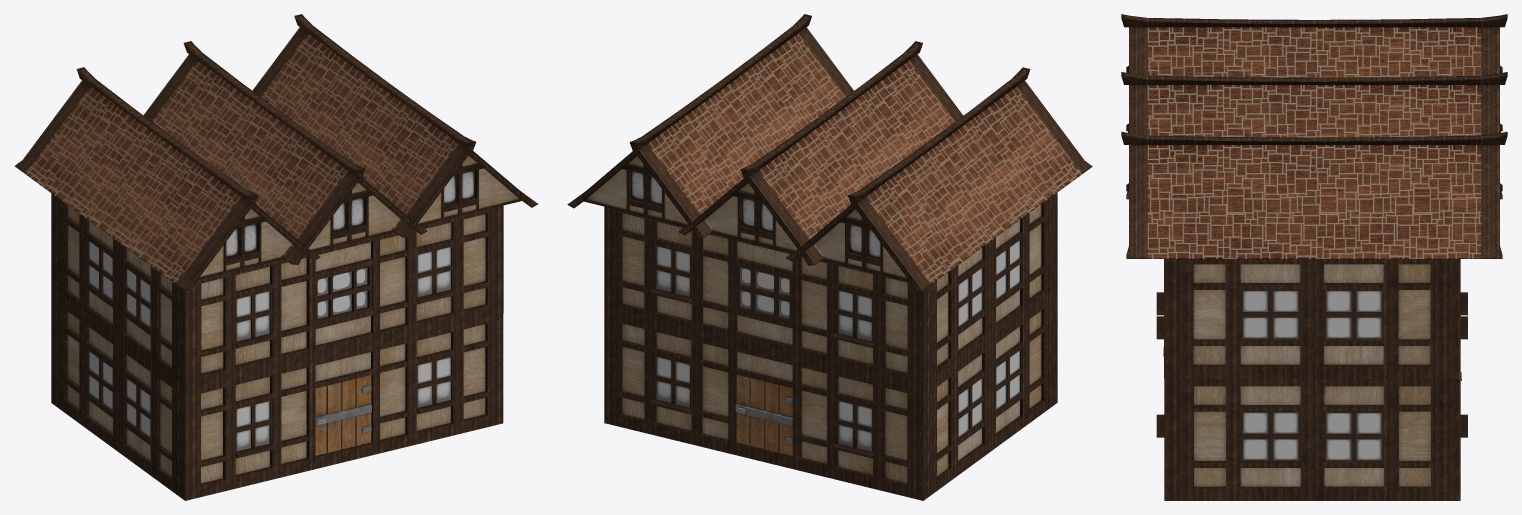
File: House_10.fbx
The picture shows the model from 3 angles, left to right: view 1: azimuth 30°, elevation 25°; view 2: azimuth 150°, elevation 25°; view 3: azimuth 270°, elevation 25°; orthographic projection. The views are drawn at different scales.
Parts seen in each view (by area): view 1: block7, block17, roof13, roof14, roof12, door15, window90, window89, window86, window87, window88, window97 (+3 smaller); view 2: block7, block17, roof13, roof14, roof12, door14, window81, window85, window82, window83, window84, window95 (+3 smaller); view 3: roof14, block7, block17, roof12, roof13, window93, window94, window92, window91.
Part boxes in pixels (x1=…): block7: x1=51, y1=288, x2=503, y2=500; block17: x1=51, y1=193, x2=503, y2=390; roof13: x1=14, y1=67, x2=320, y2=290; roof14: x1=252, y1=14, x2=538, y2=237; roof12: x1=143, y1=41, x2=427, y2=264; door15: x1=315, y1=375, x2=371, y2=455; window90: x1=315, y1=265, x2=372, y2=323; window89: x1=416, y1=355, x2=457, y2=413; window86: x1=416, y1=245, x2=457, y2=303; window87: x1=235, y1=289, x2=275, y2=347; window88: x1=235, y1=399, x2=275, y2=457; window97: x1=86, y1=238, x2=112, y2=302; block7: x1=604, y1=287, x2=1057, y2=500; block17: x1=604, y1=192, x2=1057, y2=385; roof13: x1=786, y1=67, x2=1092, y2=291; roof14: x1=567, y1=14, x2=853, y2=238; roof12: x1=678, y1=41, x2=963, y2=265; door14: x1=735, y1=374, x2=792, y2=455; window81: x1=734, y1=264, x2=792, y2=323; window85: x1=650, y1=354, x2=691, y2=413; window82: x1=832, y1=288, x2=873, y2=347; window83: x1=650, y1=244, x2=691, y2=302; window84: x1=832, y1=399, x2=873, y2=457; window95: x1=958, y1=375, x2=984, y2=439; roof14: x1=1121, y1=131, x2=1507, y2=258; block7: x1=1164, y1=259, x2=1460, y2=500; block17: x1=1164, y1=259, x2=1460, y2=378; roof12: x1=1121, y1=72, x2=1507, y2=199; roof13: x1=1121, y1=14, x2=1507, y2=132; window93: x1=1240, y1=411, x2=1300, y2=462; window94: x1=1324, y1=411, x2=1383, y2=462; window92: x1=1240, y1=290, x2=1300, y2=340; window91: x1=1324, y1=290, x2=1383, y2=340.
Bounding box in the file's own units: 15.04 × 12.46 × 12.83.
